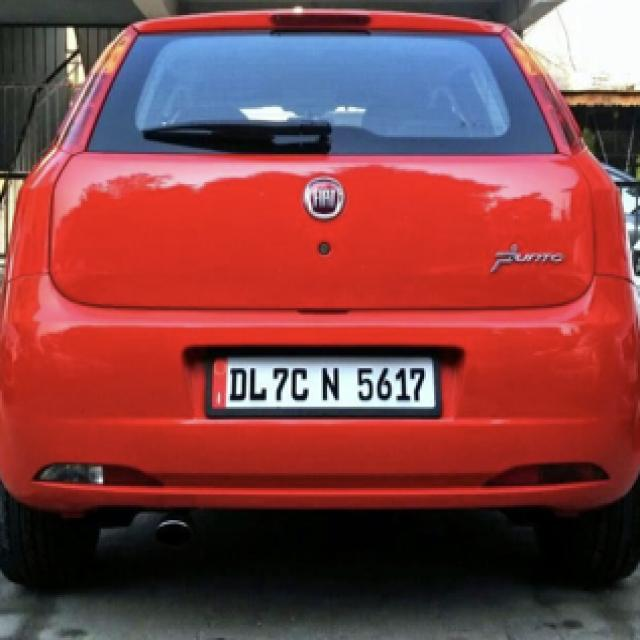license_plate: (214, 360, 440, 418)
